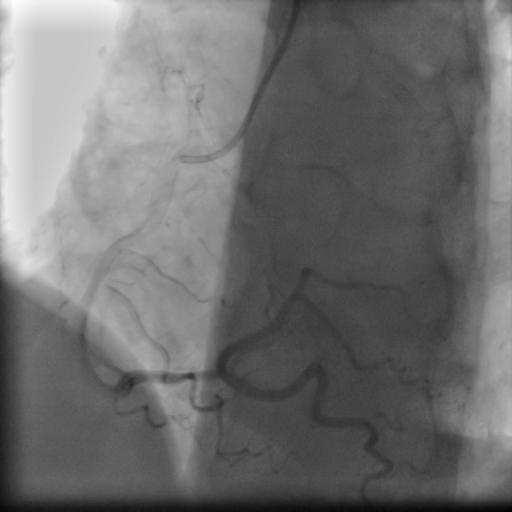Stenosis: (171, 365, 218, 383)
